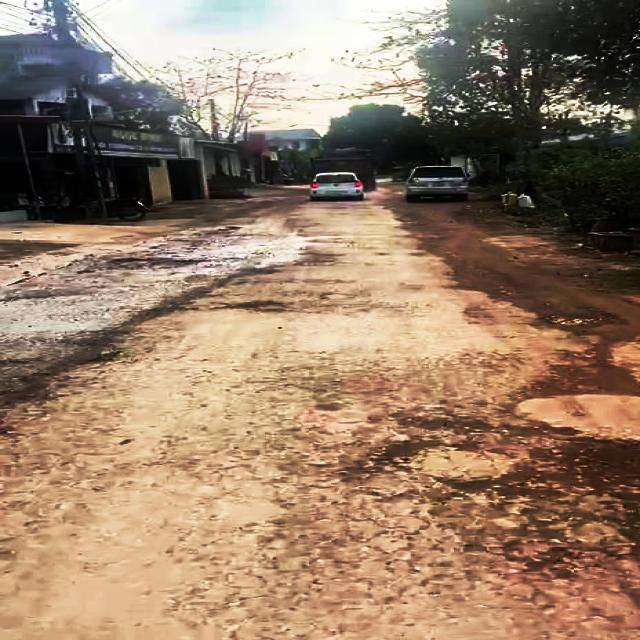pothole: (443, 472, 640, 570), (502, 424, 640, 474), (369, 436, 432, 472)
